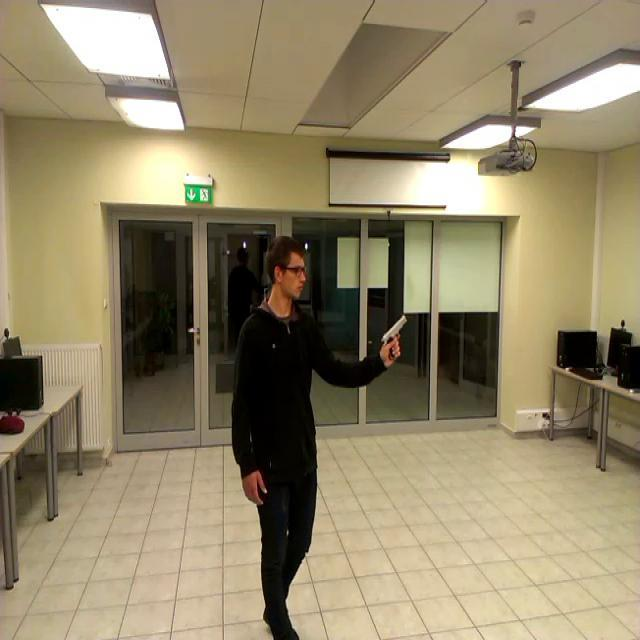Gun: (382, 314, 408, 358)
